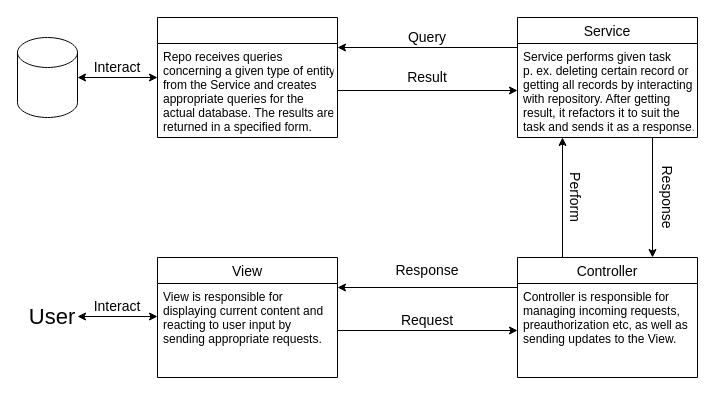
The diagram is 715 pixels wide and 398 high, and some of its shapes have lost their labels. The box of each missing label's shape, as (x1, y1, x2, y2) in pixels:
DB: (16, 36, 78, 118)
Repository: (156, 16, 338, 138)
